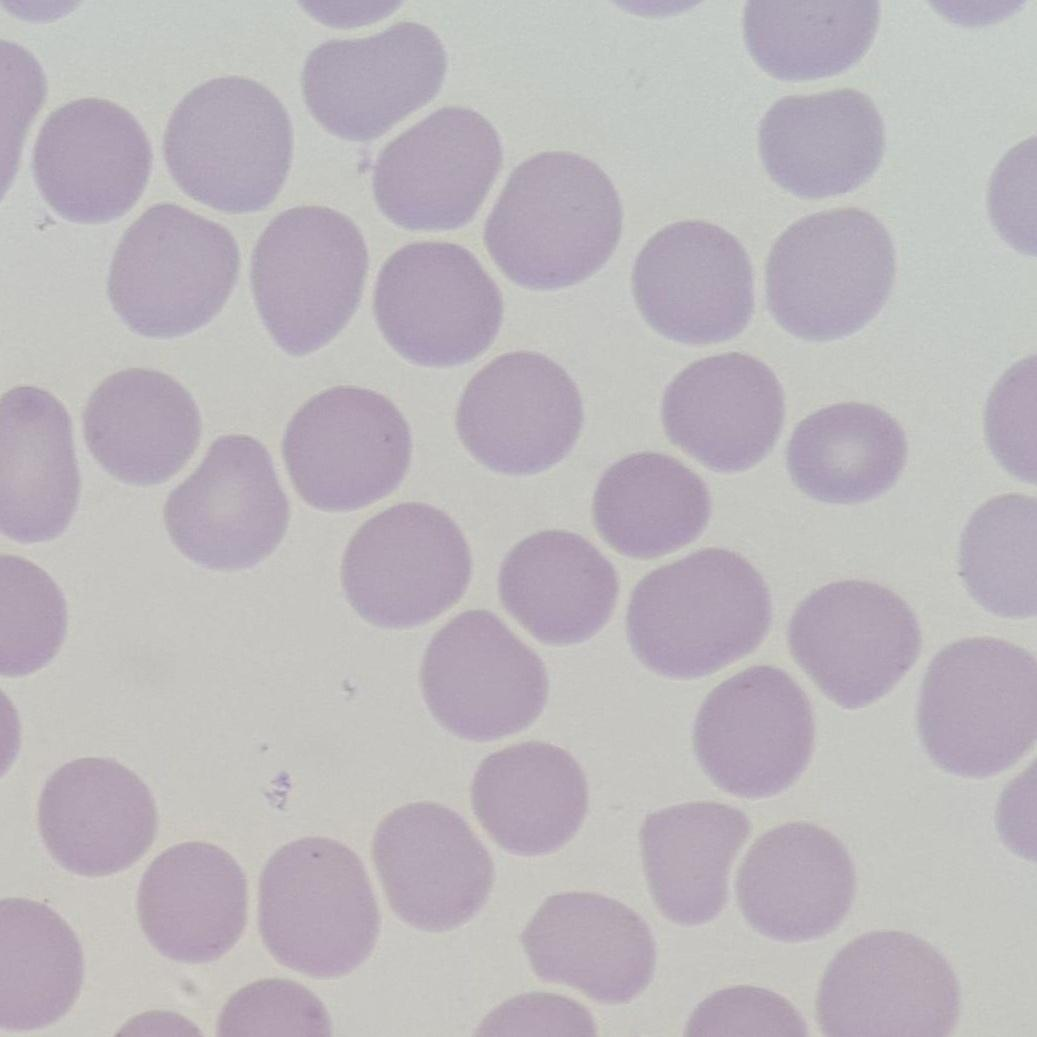Uninfected: (486, 152, 625, 287), (628, 551, 771, 681), (107, 203, 238, 340), (251, 206, 370, 355), (765, 211, 901, 339), (165, 76, 294, 210), (302, 22, 445, 142), (691, 669, 815, 805), (789, 578, 920, 706), (258, 839, 381, 974), (916, 638, 1035, 777), (283, 385, 414, 511), (417, 610, 543, 741), (166, 436, 289, 569), (340, 502, 470, 627), (371, 108, 503, 230), (457, 351, 586, 475), (370, 802, 493, 932), (374, 241, 500, 367), (660, 349, 786, 473), (633, 220, 755, 342), (523, 892, 654, 1004), (33, 97, 150, 222), (638, 802, 753, 928), (86, 366, 203, 487), (471, 740, 589, 858), (38, 757, 155, 876), (819, 933, 955, 1033), (736, 822, 850, 941), (499, 531, 617, 645), (136, 842, 247, 963), (761, 89, 885, 197), (592, 450, 711, 560), (786, 402, 904, 504)
